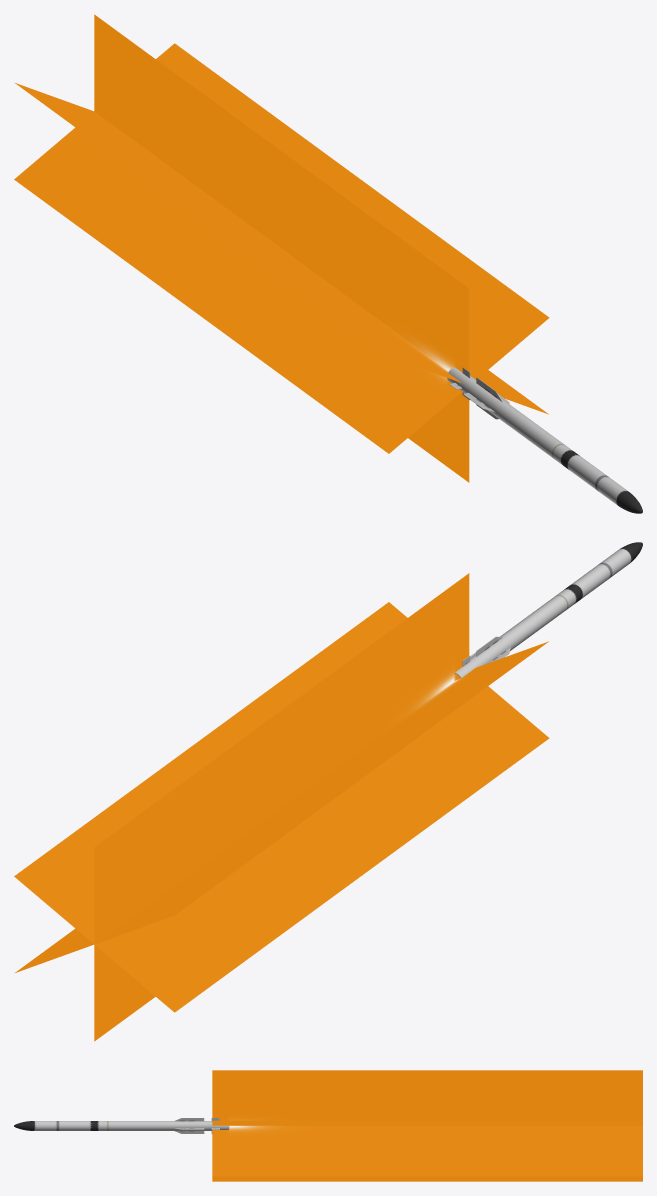
The picture shows the model from 3 angles, top to bottom: view 1: azimuth 30°, elevation 25°; view 2: azimuth 150°, elevation 25°; view 3: azimuth 270°, elevation 25°; orthographic projection. The views are drawn at different scales.
Visible parts, largest first — view 1: Flame, Missile; view 2: Flame, Missile; view 3: Flame, Missile.
Part boxes in pixels (x1,y1,x2,y2): Flame: (14,14,549,482); Missile: (447,367,642,513); Flame: (14,573,549,1041); Missile: (455,542,642,678); Flame: (212,1070,642,1181); Missile: (14,1118,228,1133).
Bounding box in the file's own units: 2.58 × 2.98 × 15.21.
2 materials, 2 textured.
